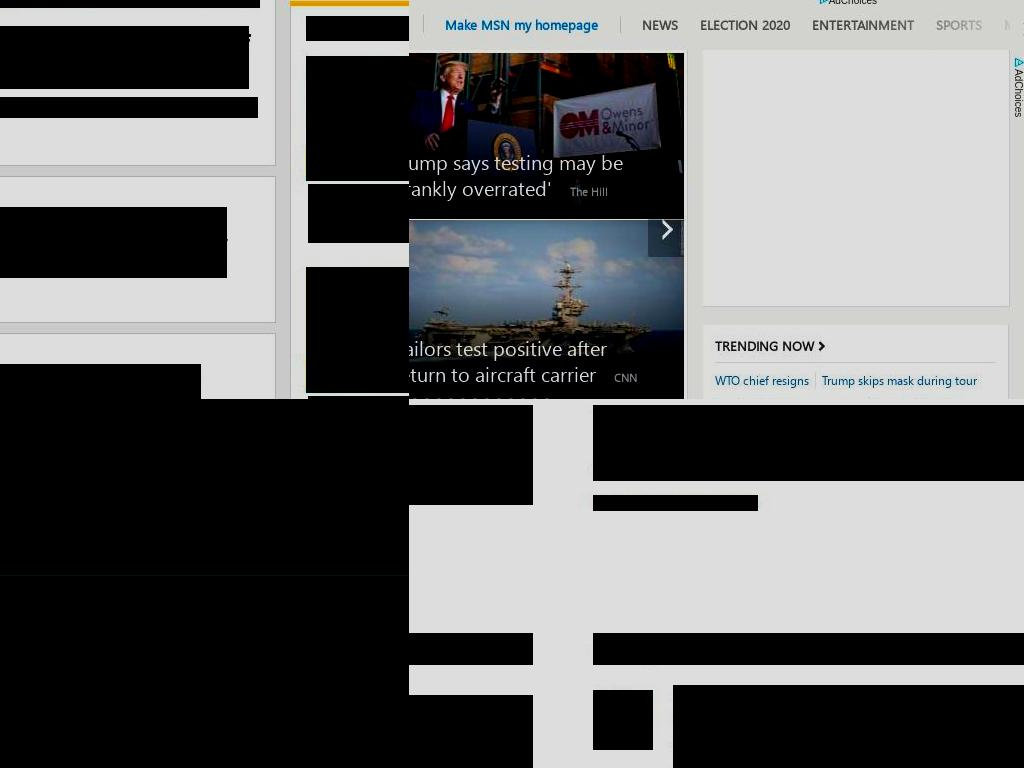button: (683, 53, 995, 386), (409, 53, 684, 220), (409, 220, 684, 387), (994, 53, 1024, 220), (994, 220, 1024, 387), (814, 372, 977, 388), (714, 372, 809, 388), (815, 0, 878, 9), (1010, 56, 1023, 79)
field: (0, 418, 409, 470)
heading: (593, 405, 1024, 437), (593, 633, 1024, 665), (714, 328, 998, 365), (409, 405, 533, 437), (409, 633, 533, 665), (444, 16, 598, 33), (713, 75, 765, 92)
iframe: (705, 53, 1006, 303)
image: (683, 53, 994, 386), (409, 53, 684, 219), (409, 220, 684, 386), (0, 479, 409, 575), (224, 632, 409, 768), (78, 632, 218, 768), (306, 267, 409, 388), (306, 56, 409, 176), (0, 632, 72, 768), (994, 53, 1024, 219), (994, 220, 1024, 386), (593, 690, 653, 750), (703, 367, 720, 383)
link: (0, 207, 227, 278), (0, 26, 249, 89), (0, 364, 201, 399), (308, 184, 409, 243), (593, 495, 758, 511), (811, 16, 914, 33), (699, 16, 790, 33), (935, 16, 982, 33), (641, 16, 678, 33), (1003, 16, 1024, 33)
text: (673, 685, 1024, 768), (0, 420, 409, 470), (0, 471, 409, 521), (593, 437, 1024, 481), (703, 304, 975, 357), (409, 148, 623, 202), (409, 334, 607, 388), (409, 695, 533, 768), (409, 437, 533, 505), (0, 97, 258, 118), (306, 16, 409, 41), (0, 2, 260, 8), (306, 145, 336, 176), (306, 357, 336, 388), (725, 367, 772, 382), (306, 175, 409, 181), (306, 387, 409, 393), (569, 184, 608, 199), (1014, 148, 1024, 202), (1014, 334, 1024, 388), (613, 370, 637, 385), (1012, 69, 1023, 79), (828, 0, 839, 6)
